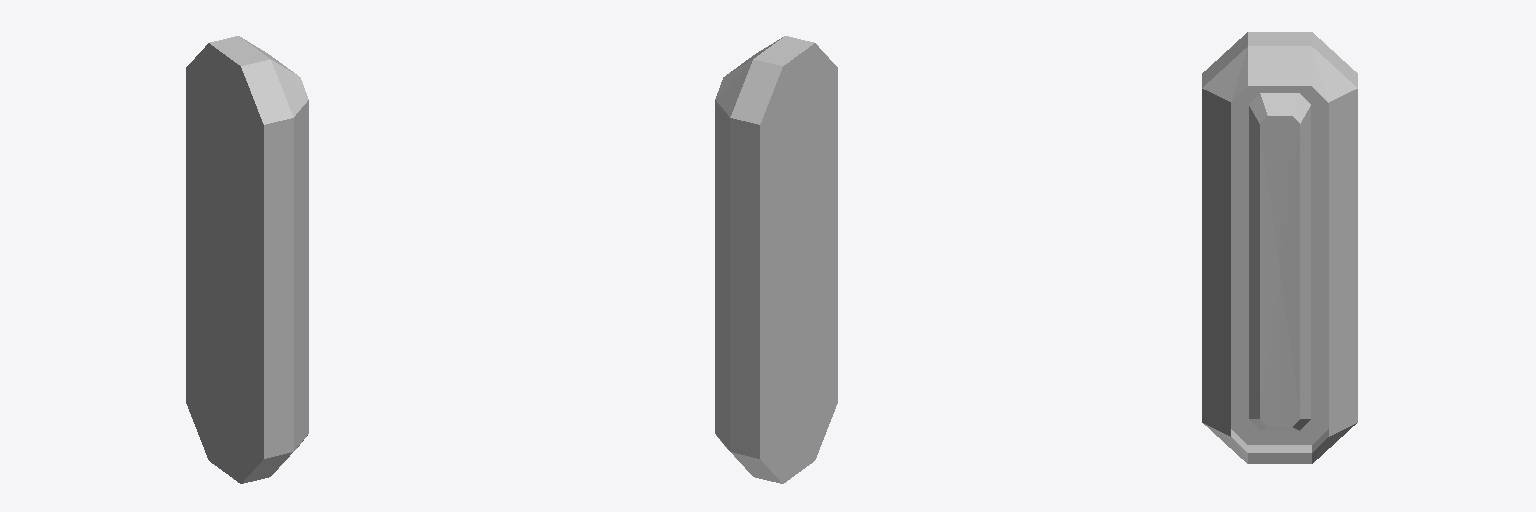
File: MuralNeon001.obj
The picture shows the model from 3 angles: view 1: azimuth 30°, elevation 25°; view 2: azimuth 150°, elevation 25°; view 3: azimuth 270°, elevation 25°; orthographic projection.
Visible parts, largest first — view 1: MuralNeon001_Cube.001; view 2: MuralNeon001_Cube.001; view 3: MuralNeon001_Cube.001.
Part boxes in pixels (x1,y1,x2,y2): MuralNeon001_Cube.001: (186,36,308,483); MuralNeon001_Cube.001: (715,36,837,483); MuralNeon001_Cube.001: (1202,32,1357,463).
Size of the model in its own units: 0.4356 by 2.79 by 0.9426.